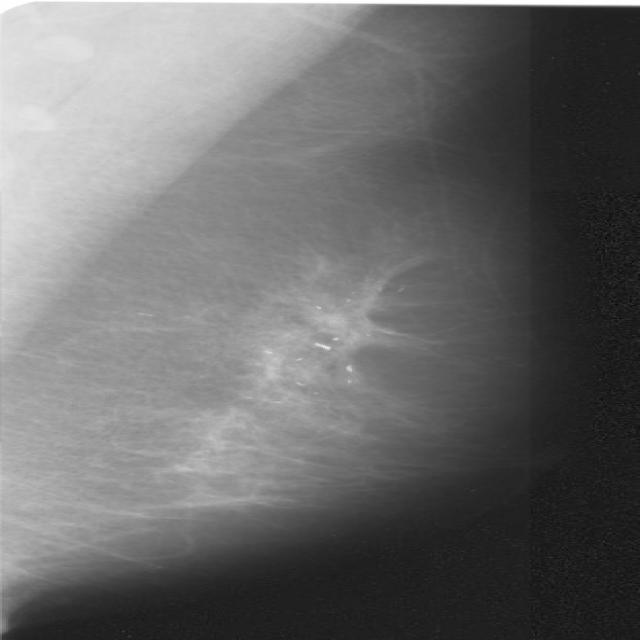tumour: (313, 304, 385, 343)
